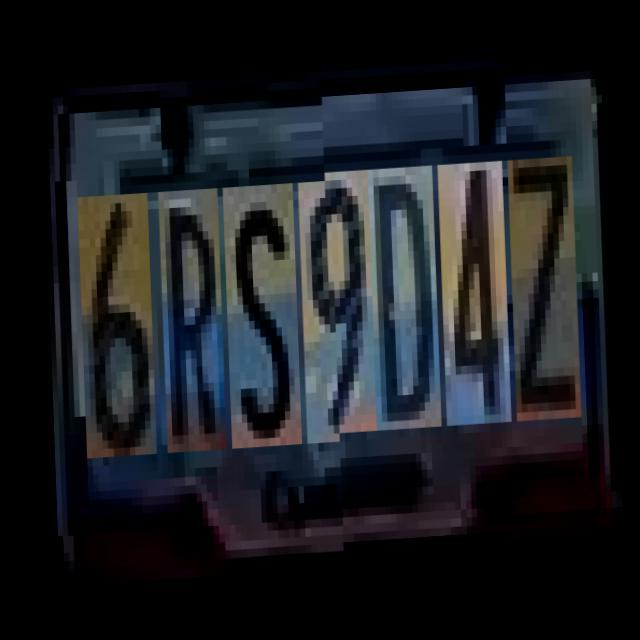4: (436, 168, 508, 432)
6: (75, 186, 154, 451)
9: (296, 174, 374, 440)
D: (366, 172, 438, 436)
R: (156, 182, 223, 446)
S: (220, 178, 298, 444)
Z: (506, 164, 578, 428)
